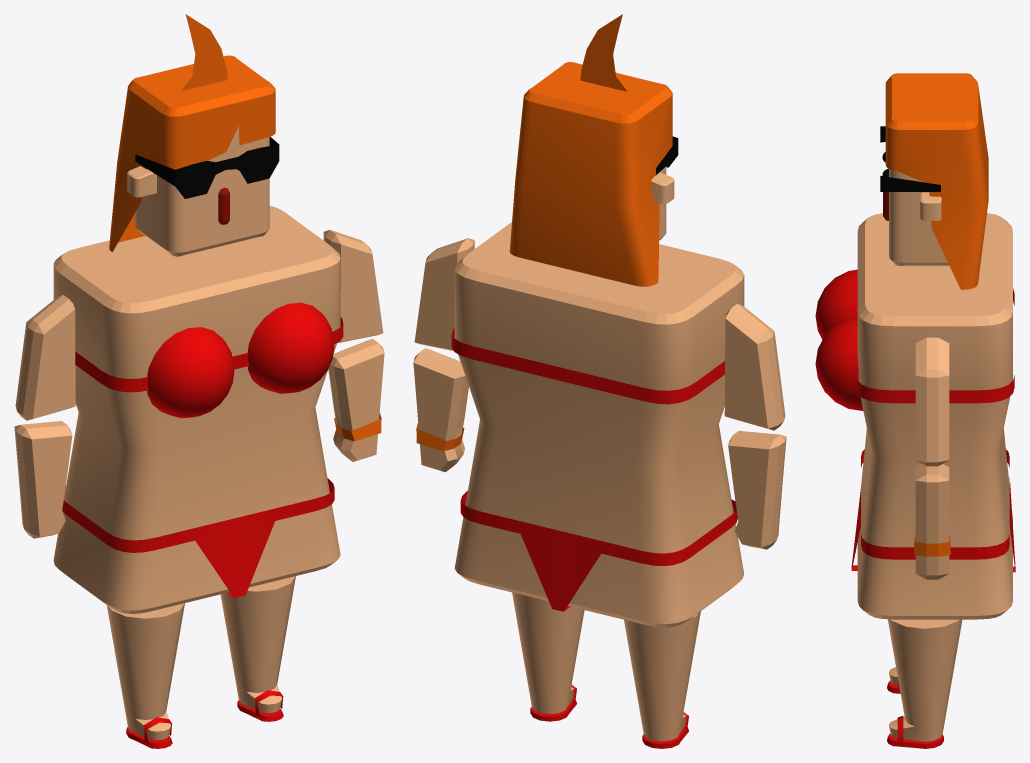
Rendered from ch_w_biky.FBX.
The picture shows the model from 3 angles, left to right: view 1: azimuth 30°, elevation 25°; view 2: azimuth 150°, elevation 25°; view 3: azimuth 270°, elevation 25°; orthographic projection. The views are drawn at different scales.
Visible parts, largest first — view 1: Box775, Box783, Box776, Cone040, Cone039, Box779, Box780, Box778, Box777, OilTank003; view 2: Box775, Box783, Cone040, Cone039, Box779, Box780, Box778, Box777, Box776; view 3: Box775, Box783, Cone039, Box777, Box778, Box776, OilTank003.
Part boxes in pixels (x1=…): Box775: x1=53, y1=205, x2=343, y2=613; Box783: x1=109, y1=14, x2=275, y2=252; Box776: x1=127, y1=126, x2=269, y2=256; Cone040: x1=107, y1=603, x2=184, y2=748; Cone039: x1=220, y1=576, x2=295, y2=721; Box779: x1=15, y1=295, x2=75, y2=420; Box780: x1=14, y1=421, x2=72, y2=538; Box778: x1=328, y1=339, x2=384, y2=461; Box777: x1=323, y1=230, x2=383, y2=343; OilTank003: x1=135, y1=136, x2=279, y2=224; Box775: x1=451, y1=222, x2=744, y2=627; Box783: x1=509, y1=14, x2=672, y2=286; Cone040: x1=624, y1=611, x2=700, y2=748; Cone039: x1=512, y1=592, x2=584, y2=721; Box779: x1=724, y1=303, x2=785, y2=430; Box780: x1=728, y1=431, x2=786, y2=549; Box778: x1=413, y1=348, x2=468, y2=472; Box777: x1=414, y1=238, x2=474, y2=350; Box776: x1=651, y1=166, x2=674, y2=240; Box775: x1=815, y1=213, x2=1015, y2=619; Box783: x1=885, y1=73, x2=988, y2=289; Cone039: x1=887, y1=619, x2=962, y2=748; Box777: x1=915, y1=337, x2=949, y2=466; Box778: x1=914, y1=464, x2=950, y2=579; Box776: x1=889, y1=169, x2=949, y2=265; OilTank003: x1=880, y1=126, x2=940, y2=220.
Size of the model in its own units: 3.1 by 5.83 by 1.53.
